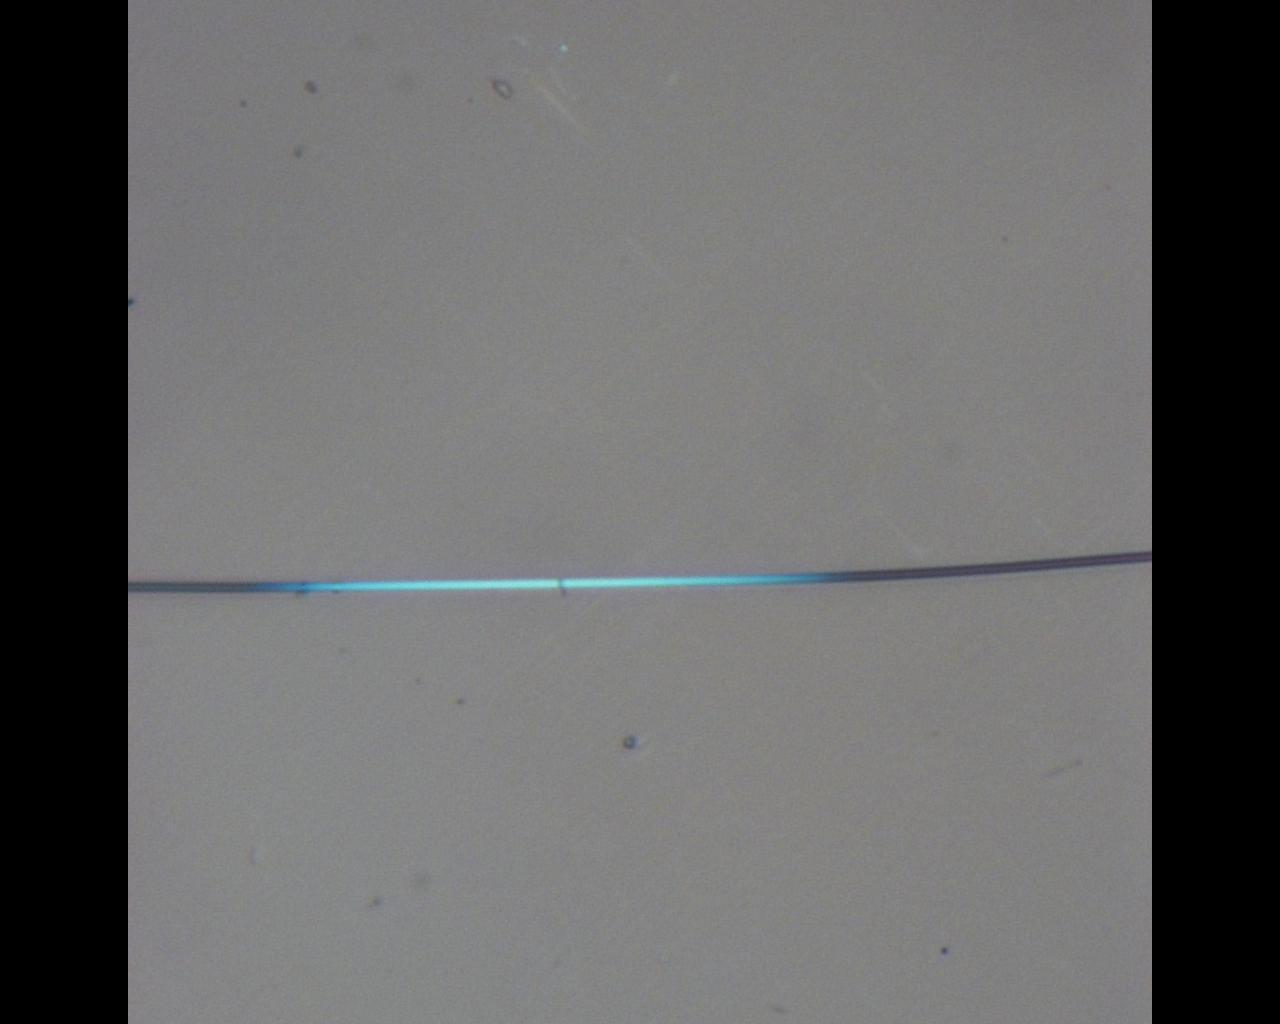fiber: (127, 549, 1151, 596)
